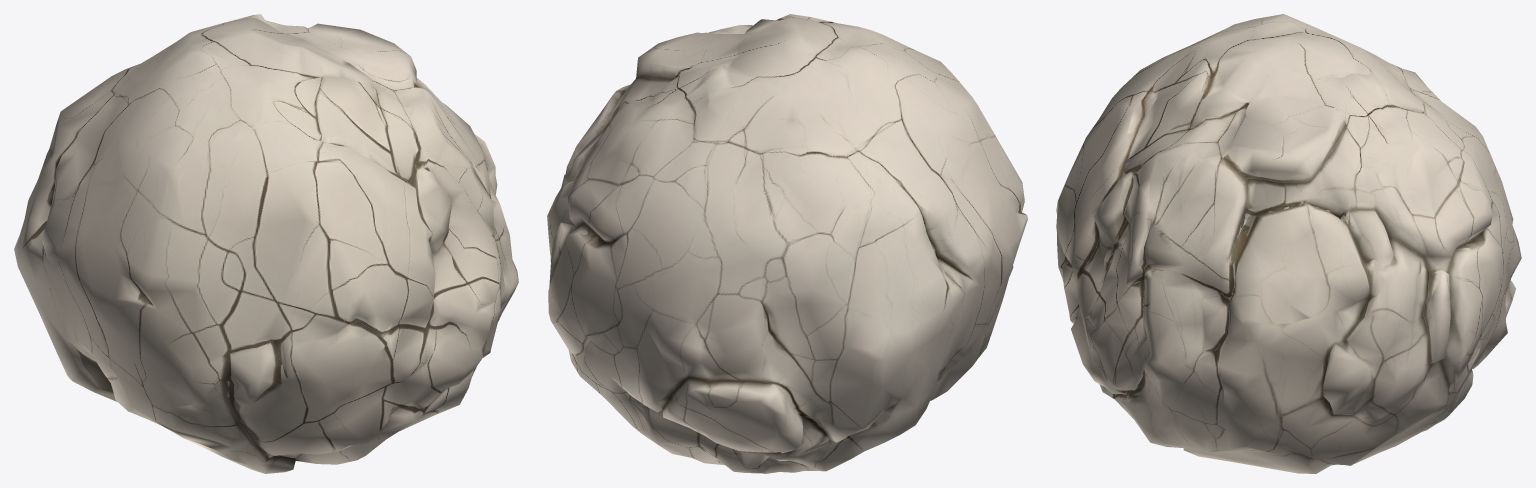
The model's file is rock_large.glb.
3 renders of one model, left to right at view 1: azimuth 30°, elevation 25°; view 2: azimuth 150°, elevation 25°; view 3: azimuth 270°, elevation 25°, orthographic. The views are drawn at different scales.
Visible parts, largest first — view 1: Mesh_0.001; view 2: Mesh_0.001; view 3: Mesh_0.001.
Part boxes in pixels (x1=…): Mesh_0.001: x1=14, y1=14, x2=518, y2=473; Mesh_0.001: x1=547, y1=14, x2=1027, y2=473; Mesh_0.001: x1=1056, y1=14, x2=1521, y2=473.
Size of the model in its own units: 0.0559 by 0.05 by 0.0559.
1 material, 1 textured.
